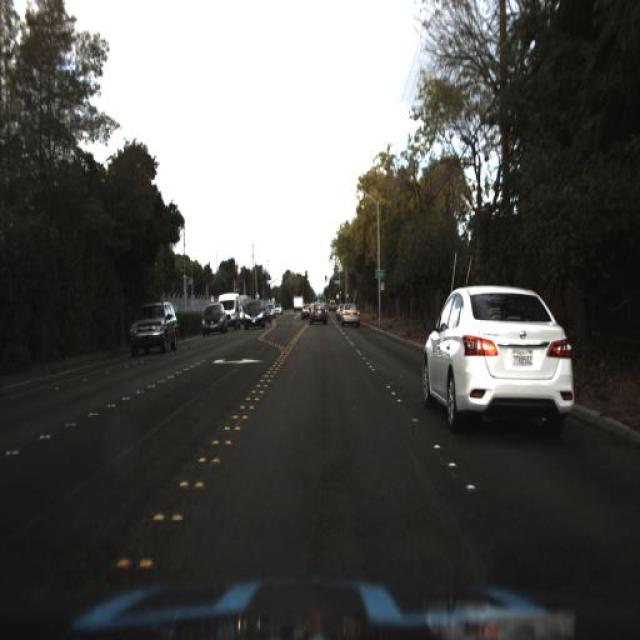car: (418, 283, 577, 437), (124, 298, 180, 361), (216, 292, 243, 338), (197, 303, 227, 339), (240, 296, 268, 332), (338, 297, 364, 331), (306, 300, 329, 330)
